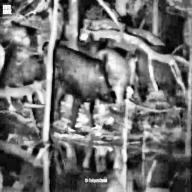boar: (47, 23, 115, 125)
